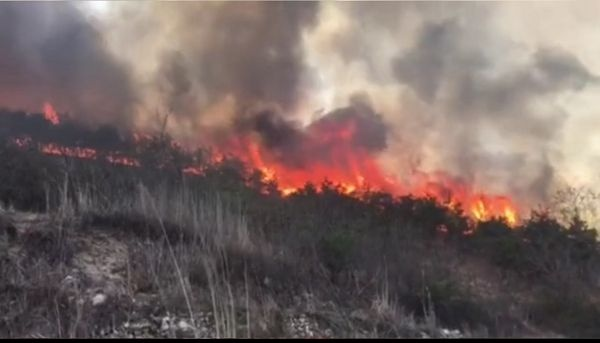fire: (234, 136, 517, 228), (37, 103, 217, 174)
